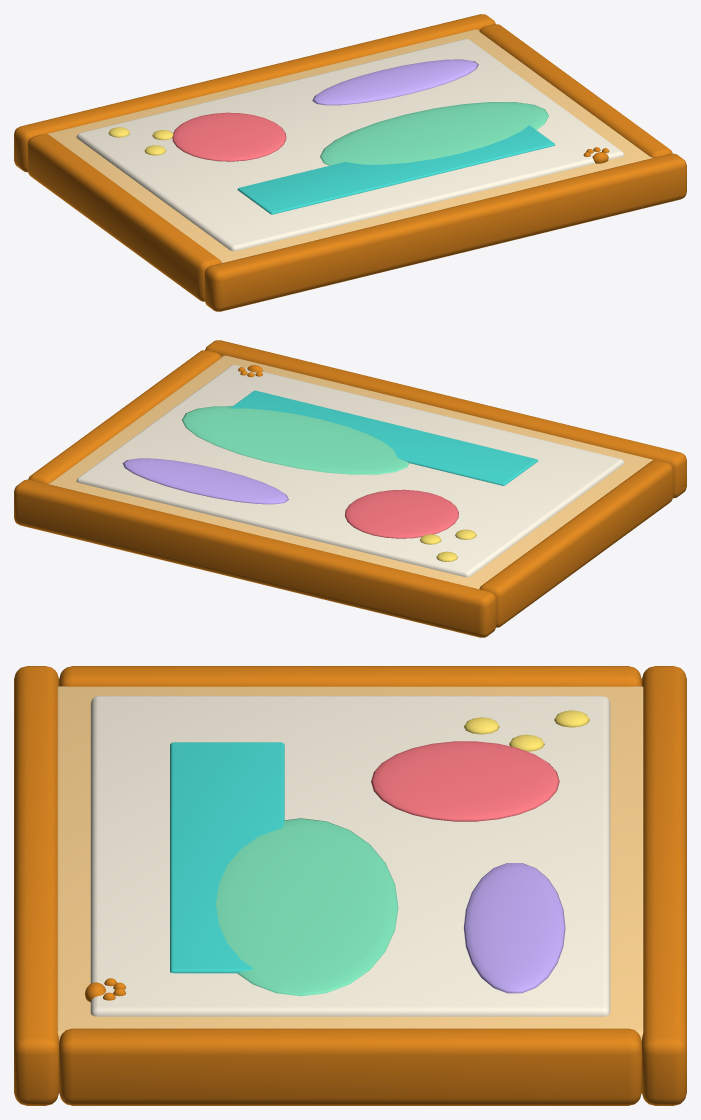
File: ModernPainting_Premium.fbx
The picture shows the model from 3 angles, top to bottom: view 1: azimuth 30°, elevation 25°; view 2: azimuth 150°, elevation 25°; view 3: azimuth 270°, elevation 25°; orthographic projection. The views are drawn at different scales.
Visible parts, largest first — view 1: ModernPainting; view 2: ModernPainting; view 3: ModernPainting.
Part boxes in pixels (x1=…): ModernPainting: x1=14, y1=14, x2=686, y2=311; ModernPainting: x1=14, y1=340, x2=686, y2=637; ModernPainting: x1=14, y1=666, x2=686, y2=1105.
Size of the model in its own units: 1.1 by 0.102 by 0.82.
